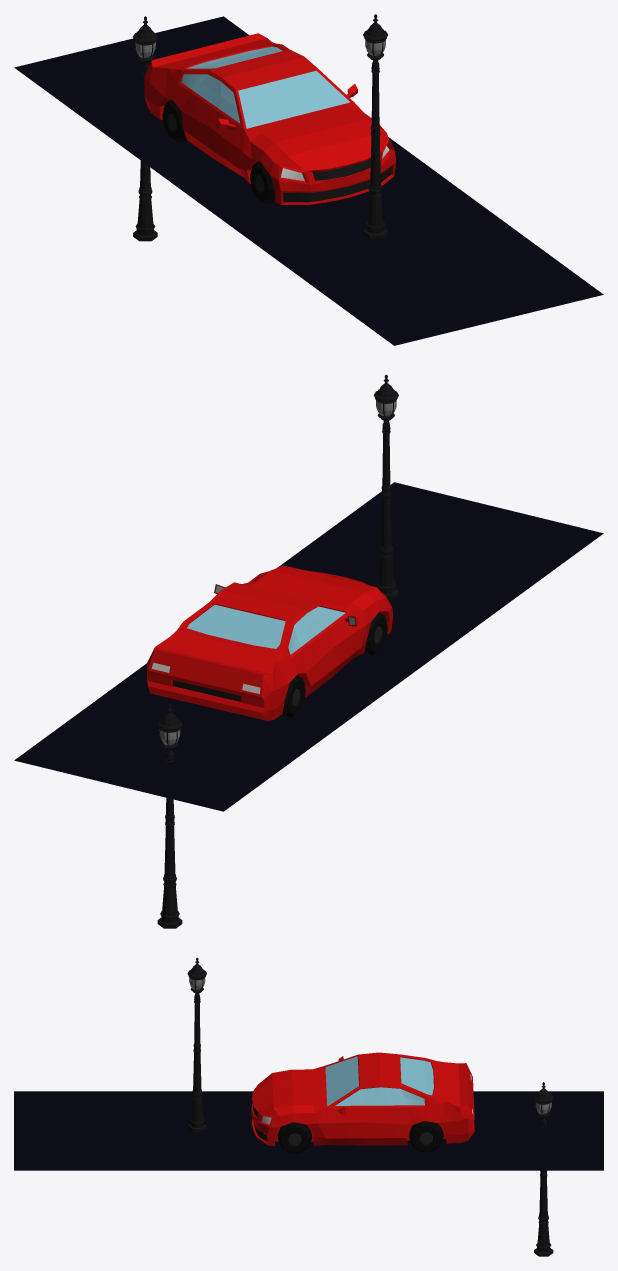
Rendered from Salle2_1.obj.
3 renders of one model, top to bottom at view 1: azimuth 30°, elevation 25°; view 2: azimuth 150°, elevation 25°; view 3: azimuth 270°, elevation 25°, orthographic. The views are drawn at different scales.
Parts seen in each view (by area): view 1: Plane, Body_Cube.001, lamp_post, lamp_post.001, FrontRightWheel_Cylinder.002, BackRightWheel_Cylinder.003; view 2: Plane, Body_Cube.001, lamp_post, lamp_post.001; view 3: Plane, Body_Cube.001, lamp_post, lamp_post.001, BackLeftWheel_Cylinder.001, FrontLeftWheel_Cylinder.
Part boxes in pixels (<box>): Plane: <box>14,16,603,345</box>; Body_Cube.001: <box>144,33,396,204</box>; lamp_post: <box>363,14,387,239</box>; lamp_post.001: <box>133,16,157,241</box>; FrontRightWheel_Cylinder.002: <box>250,161,275,204</box>; BackRightWheel_Cylinder.003: <box>162,100,187,142</box>; Plane: <box>14,482,603,811</box>; Body_Cube.001: <box>147,565,393,720</box>; lamp_post: <box>373,374,398,599</box>; lamp_post.001: <box>157,703,182,928</box>; Plane: <box>14,1091,603,1170</box>; Body_Cube.001: <box>251,1052,474,1146</box>; lamp_post: <box>187,957,206,1131</box>; lamp_post.001: <box>534,1082,553,1256</box>; BackLeftWheel_Cylinder.001: <box>409,1121,443,1152</box>; FrontLeftWheel_Cylinder: <box>277,1122,312,1153</box>.
Size of the model in its own units: 10 by 17.52 by 31.41.
